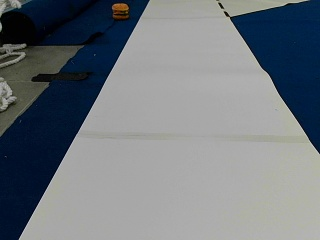burger: (111, 1, 130, 20)
